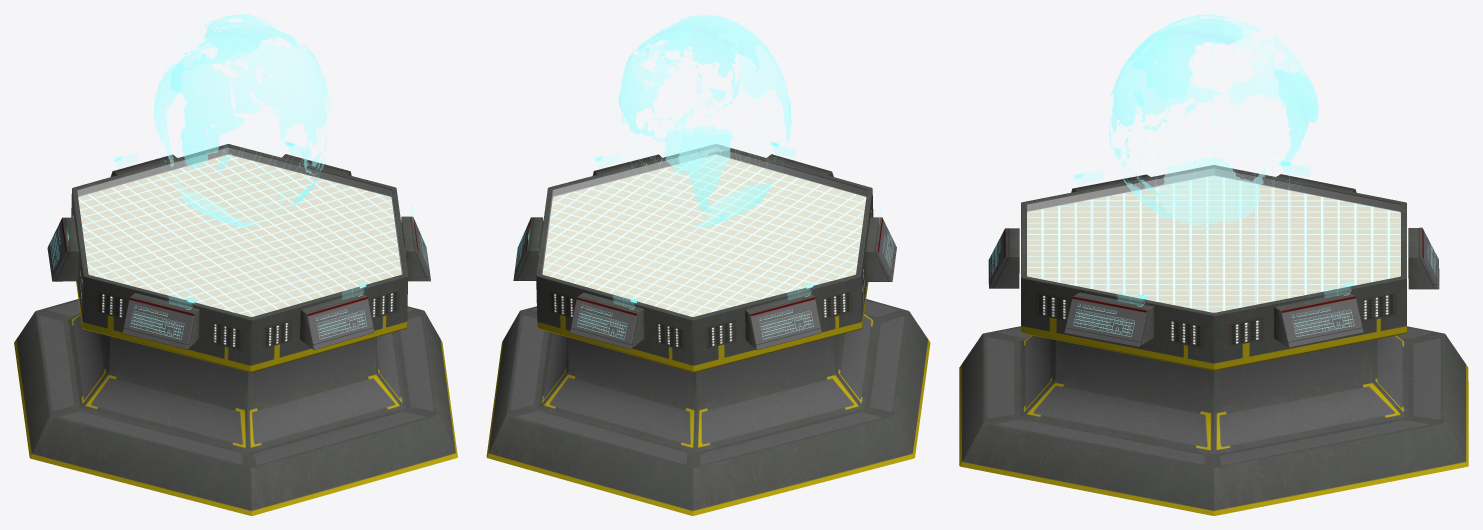
Rendered from esfera.glb.
3 views of the same model, side by side, from view 1: azimuth 30°, elevation 25°; view 2: azimuth 150°, elevation 25°; view 3: azimuth 270°, elevation 25° (orthographic). The views are drawn at different scales.
Parts seen in each view (by area): view 1: Hologram_Hologram_0; view 2: Hologram_Hologram_0; view 3: Hologram_Hologram_0.
Part boxes in pixels (x1,y1,x2,y2): Hologram_Hologram_0: (14,14,457,515); Hologram_Hologram_0: (486,14,930,515); Hologram_Hologram_0: (959,14,1468,515).
Bounding box in the file's own units: 1.8 × 1.6 × 1.8.
Materials: 2 (2 with a texture image).
